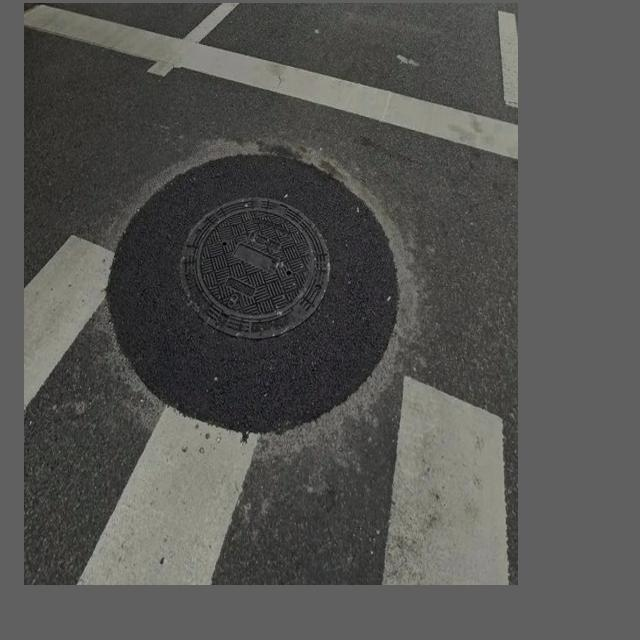good: (105, 120, 417, 454)
